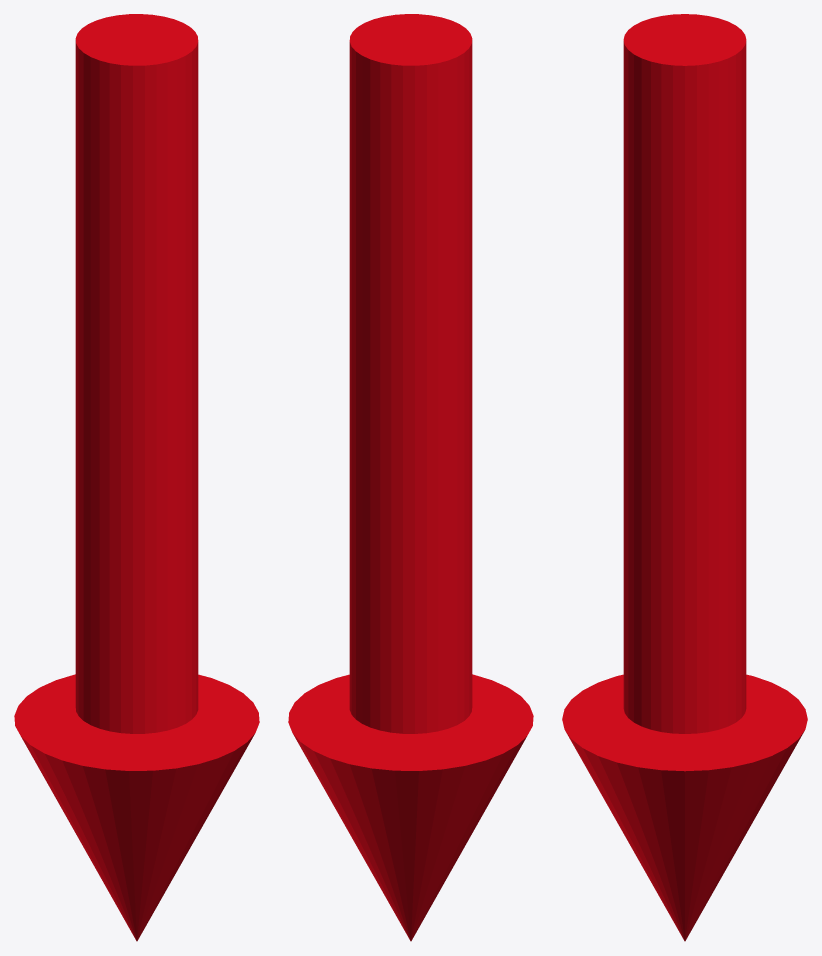
The model's file is preview_arrow_facing_down.glb.
3 views of the same model, side by side, from view 1: azimuth 30°, elevation 25°; view 2: azimuth 150°, elevation 25°; view 3: azimuth 270°, elevation 25° (orthographic).
Visible parts, largest first — view 1: Cylinder, Cone; view 2: Cylinder, Cone; view 3: Cylinder, Cone.
Boxes of the visible parts, <box> form: Cylinder: <box>75,14,198,733</box>; Cone: <box>14,674,259,941</box>; Cylinder: <box>349,14,472,733</box>; Cone: <box>288,674,533,941</box>; Cylinder: <box>623,14,746,733</box>; Cone: <box>562,674,807,941</box>.
Bounding box in the file's own units: 2 × 8.1 × 2.
